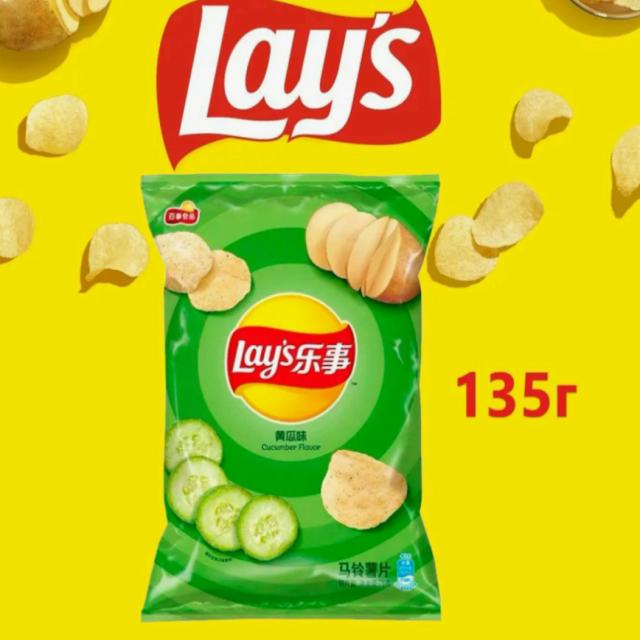supermarket-product: (156, 173, 438, 624)
